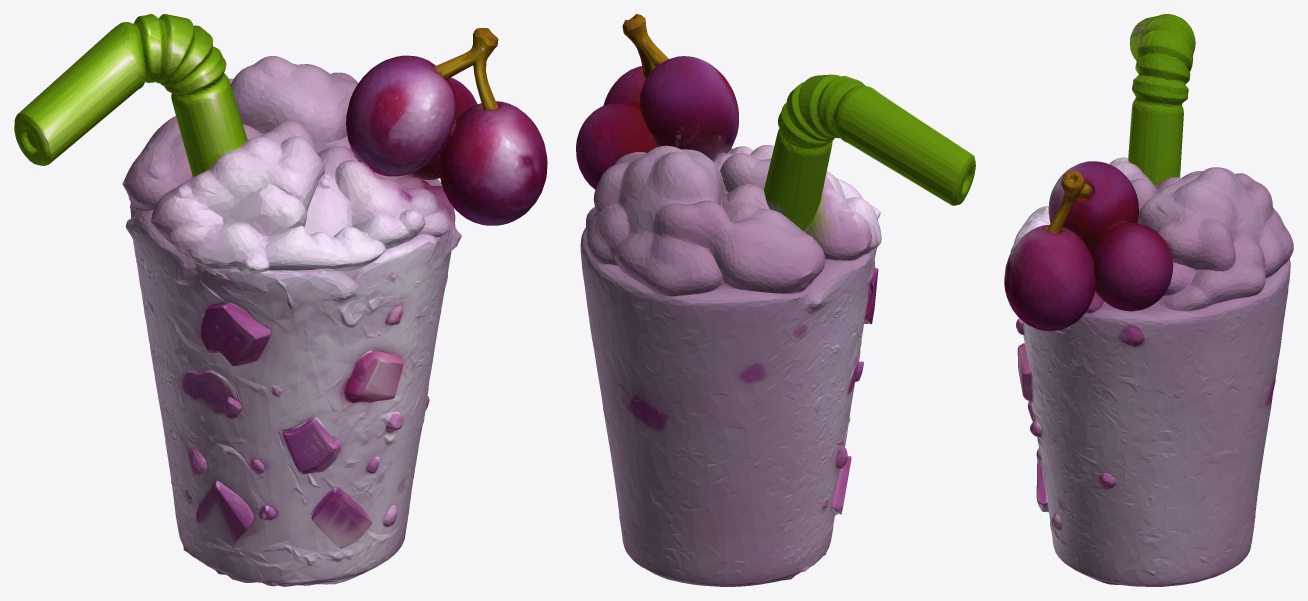
The model's file is Web_MilkSlush_Grape.obj.
3 views of the same model, side by side, from view 1: azimuth 30°, elevation 25°; view 2: azimuth 150°, elevation 25°; view 3: azimuth 270°, elevation 25° (orthographic). The views are drawn at different scales.
Parts seen in each view (by area): view 1: Web_MilkSlush_Grape; view 2: Web_MilkSlush_Grape; view 3: Web_MilkSlush_Grape.
Part boxes in pixels (<box>): Web_MilkSlush_Grape: <box>14,14,547,586</box>; Web_MilkSlush_Grape: <box>576,14,975,586</box>; Web_MilkSlush_Grape: <box>1004,14,1293,586</box>.
Bounding box in the file's own units: 0.8699 × 1 × 0.5549.
1 material, 1 textured.
